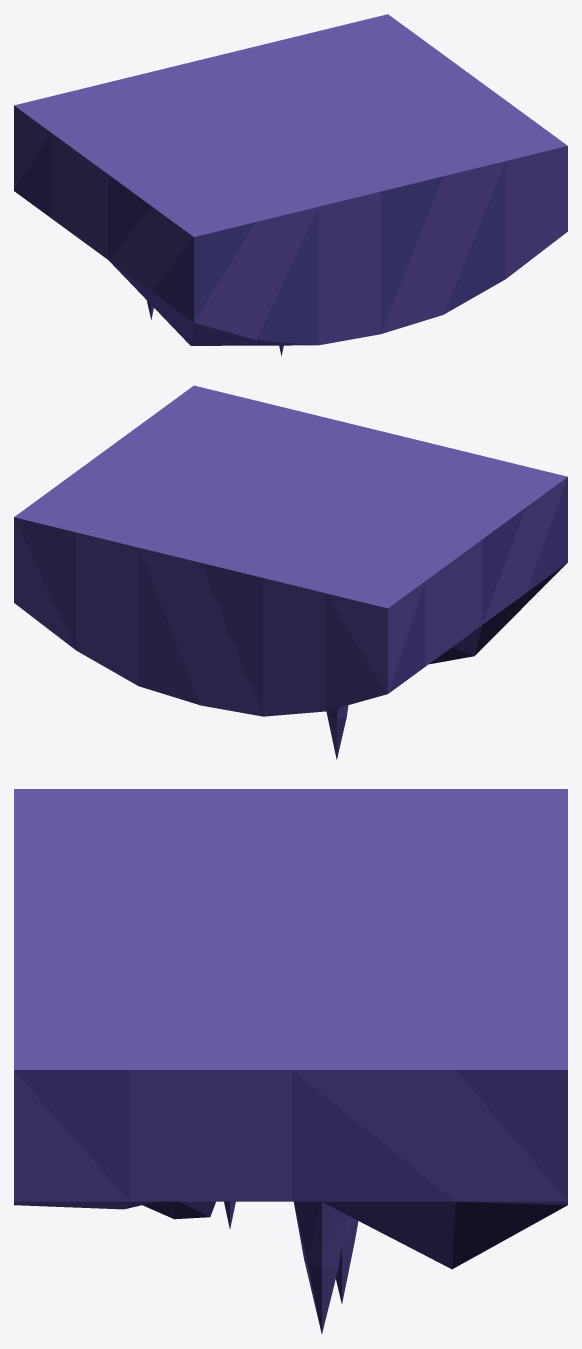
File: Mine_Ceiling_Rock_A.obj
The picture shows the model from 3 angles, top to bottom: view 1: azimuth 30°, elevation 25°; view 2: azimuth 150°, elevation 25°; view 3: azimuth 270°, elevation 25°; orthographic projection. The views are drawn at different scales.
Parts seen in each view (by area): view 1: Mine_Ceiling_Rock_A; view 2: Mine_Ceiling_Rock_A; view 3: Mine_Ceiling_Rock_A.
Part boxes in pixels (left/top/right/bottom): Mine_Ceiling_Rock_A: left=14, top=14, right=567, bottom=356; Mine_Ceiling_Rock_A: left=14, top=385, right=567, bottom=759; Mine_Ceiling_Rock_A: left=14, top=789, right=567, bottom=1334.
Bounding box in the file's own units: 4.8 × 2.59 × 4.
